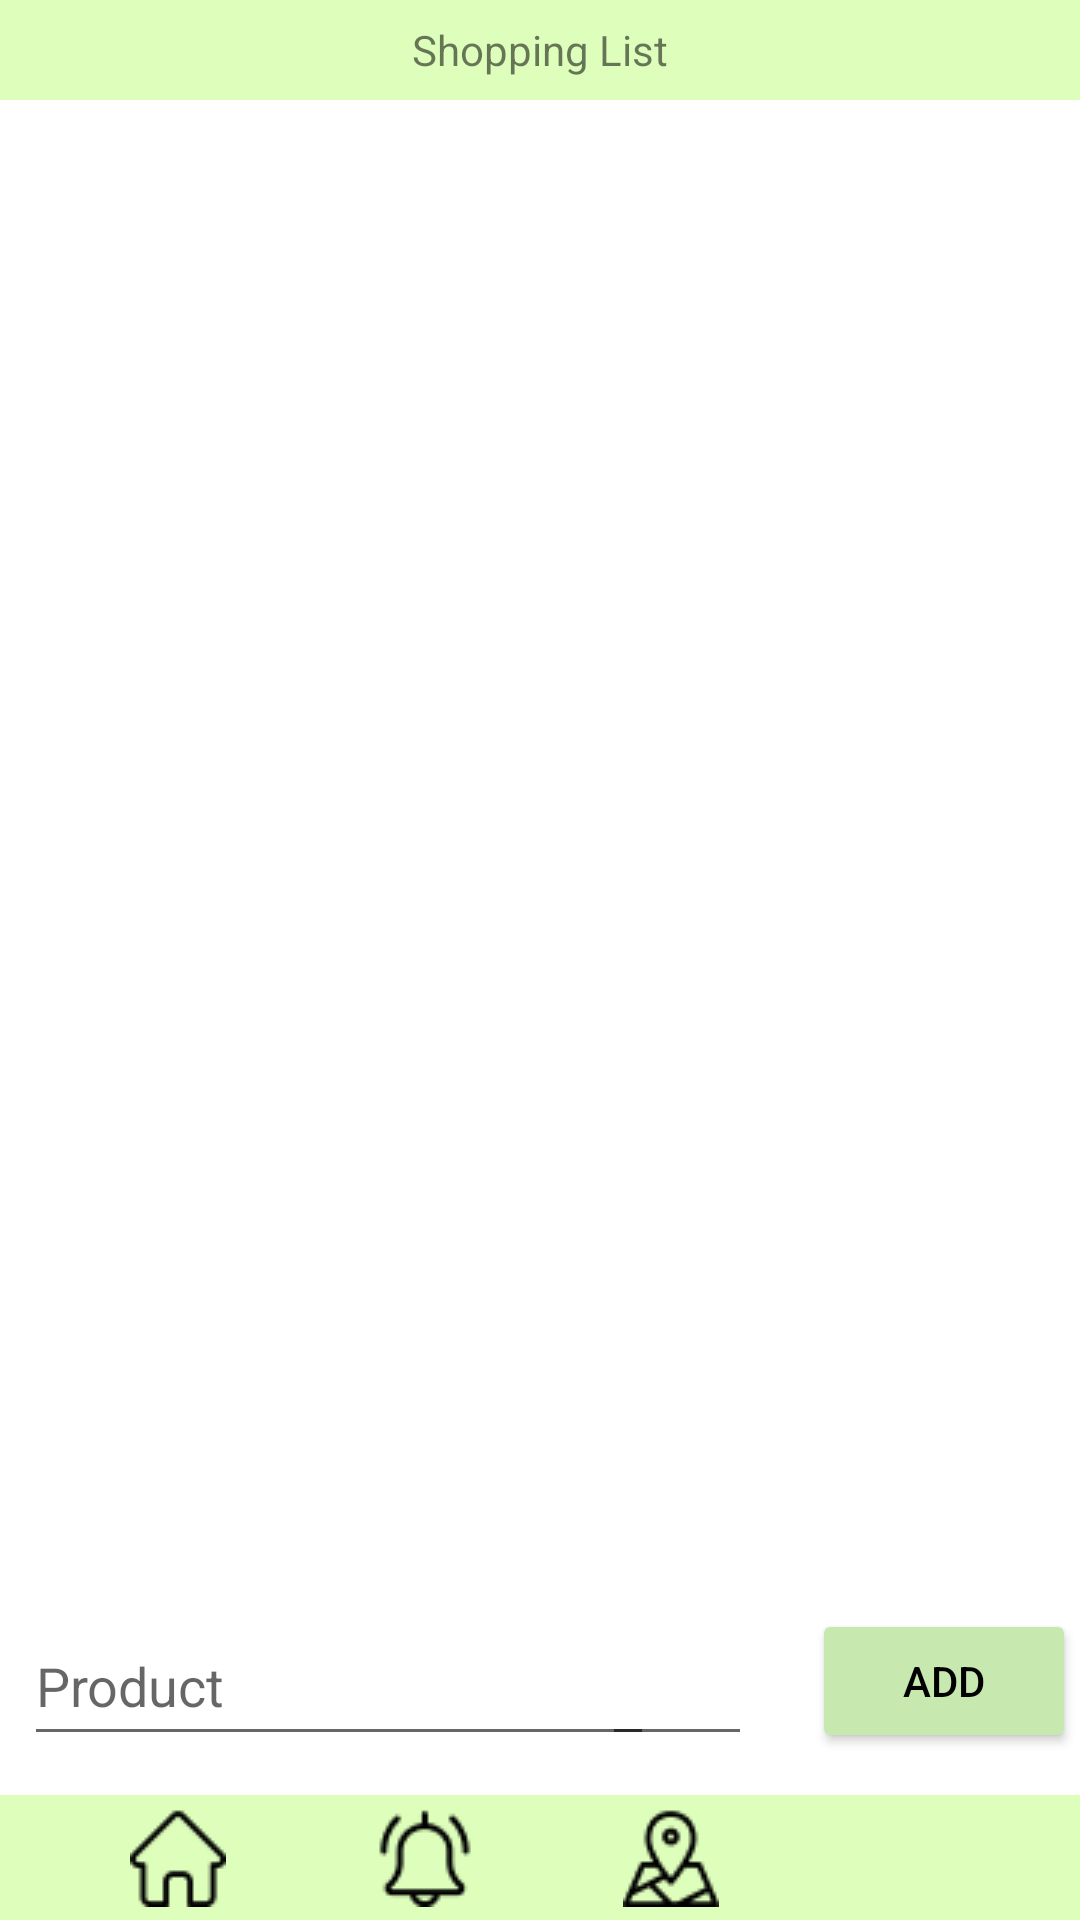

Where icons sit on this 1080w x 1920h app screen, as (x1, y1, x2, y2):
home: (130, 1810, 226, 1907)
maps: (623, 1810, 719, 1907)
reminder: (379, 1810, 471, 1907)
